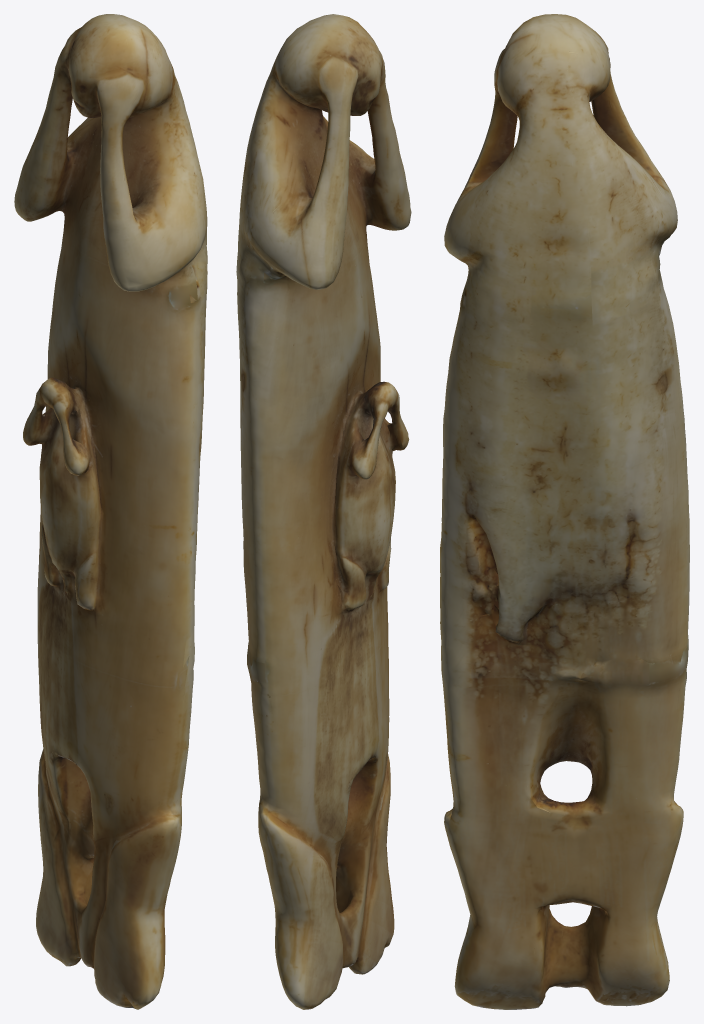
The model's file is sea-otter.glb.
3 renders of one model, left to right at view 1: azimuth 30°, elevation 25°; view 2: azimuth 150°, elevation 25°; view 3: azimuth 270°, elevation 25°, orthographic. The views are drawn at different scales.
Visible parts, largest first — view 1: Object_2; view 2: Object_2; view 3: Object_2.
Part boxes in pixels (box(x1,y1,x2,y2)): Object_2: box(14, 14, 207, 1009); Object_2: box(236, 14, 411, 1009); Object_2: box(440, 14, 689, 1009).
Size of the model in its own units: 1.21 by 7.94 by 1.8.
Materials: 1 (1 with a texture image).
